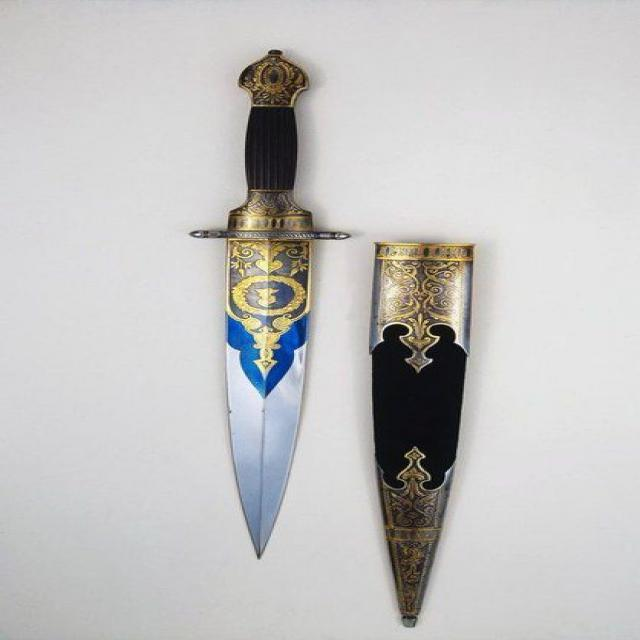short sword: (186, 34, 357, 572), (376, 228, 474, 628)
